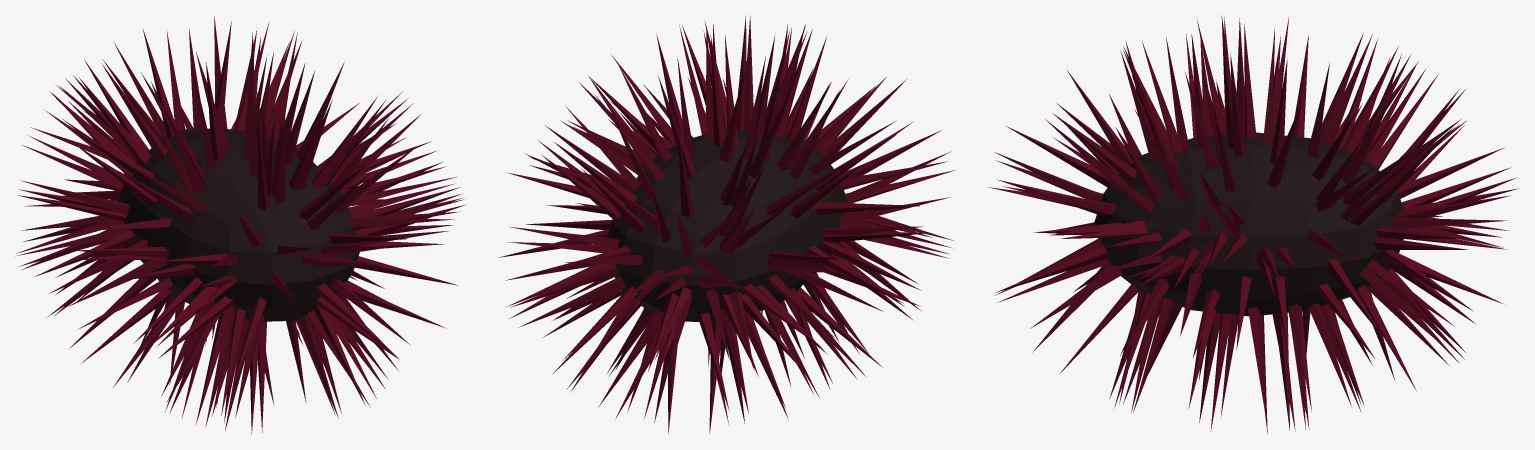
The model's file is f4iwEhEP3-d.glb.
The picture shows the model from 3 angles, left to right: view 1: azimuth 30°, elevation 25°; view 2: azimuth 150°, elevation 25°; view 3: azimuth 270°, elevation 25°; orthographic projection. The views are drawn at different scales.
Parts seen in each view (by area): view 1: Geo_SeaUrchin; view 2: Geo_SeaUrchin; view 3: Geo_SeaUrchin.
Boxes of the visible parts, x1=… form: Geo_SeaUrchin: x1=15, y1=16, x2=464, y2=434; Geo_SeaUrchin: x1=497, y1=16, x2=955, y2=434; Geo_SeaUrchin: x1=987, y1=15, x2=1519, y2=433.
Size of the model in its own units: 1.1 by 1 by 1.31.
Materials: 1 (1 with a texture image).
